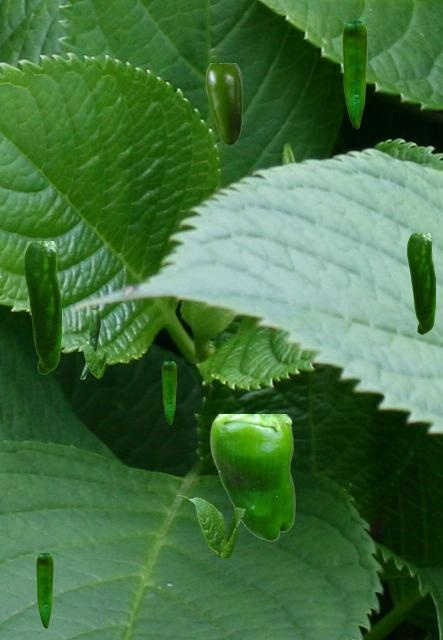green_chili: (209, 414, 294, 540), (24, 241, 60, 373), (206, 63, 241, 144), (407, 233, 434, 333), (342, 21, 366, 127), (80, 310, 99, 378), (36, 553, 52, 627), (162, 361, 175, 423)
